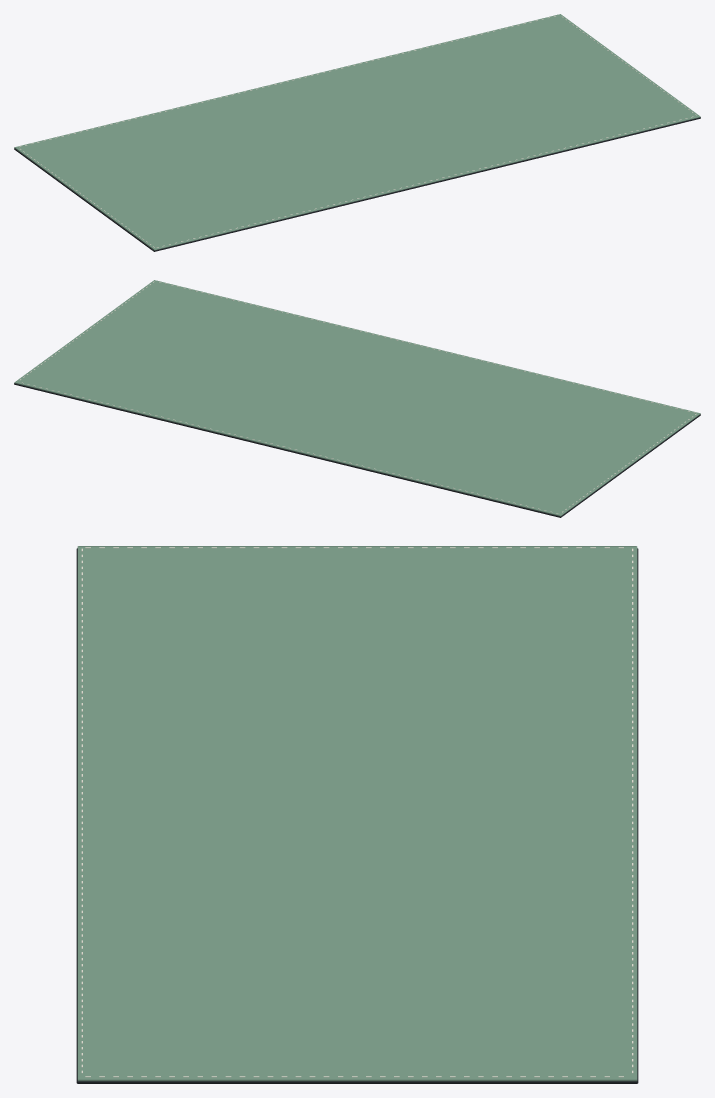
File: desk-mat-sage.glb
3 renders of one model, top to bottom at view 1: azimuth 30°, elevation 25°; view 2: azimuth 150°, elevation 25°; view 3: azimuth 270°, elevation 25°, orthographic. The views are drawn at different scales.
Parts seen in each view (by area): view 1: catalog_surface_RealismUV; view 2: catalog_surface_RealismUV; view 3: catalog_surface_RealismUV.
Part boxes in pixels (box(x1,y1,x2,y2)): catalog_surface_RealismUV: box(14, 14, 700, 251); catalog_surface_RealismUV: box(14, 280, 700, 517); catalog_surface_RealismUV: box(76, 546, 638, 1083).
Size of the model in its own units: 0.9 by 0.004 by 0.4.
